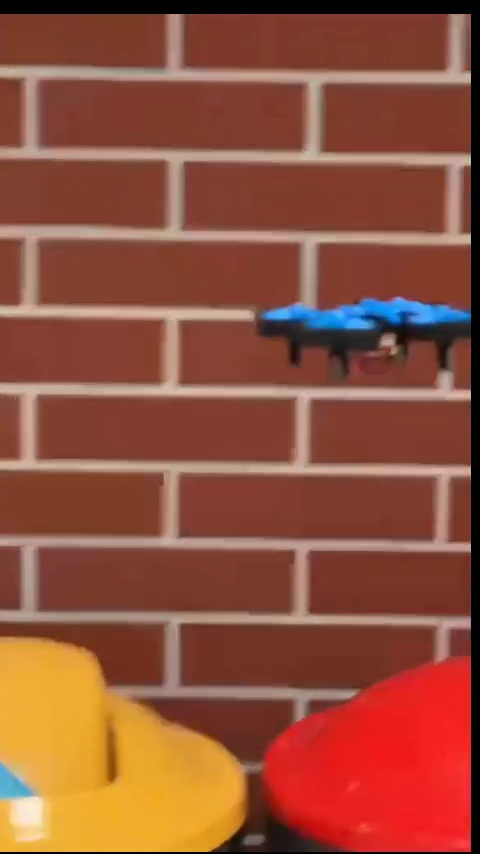drone: (253, 293, 472, 385)
